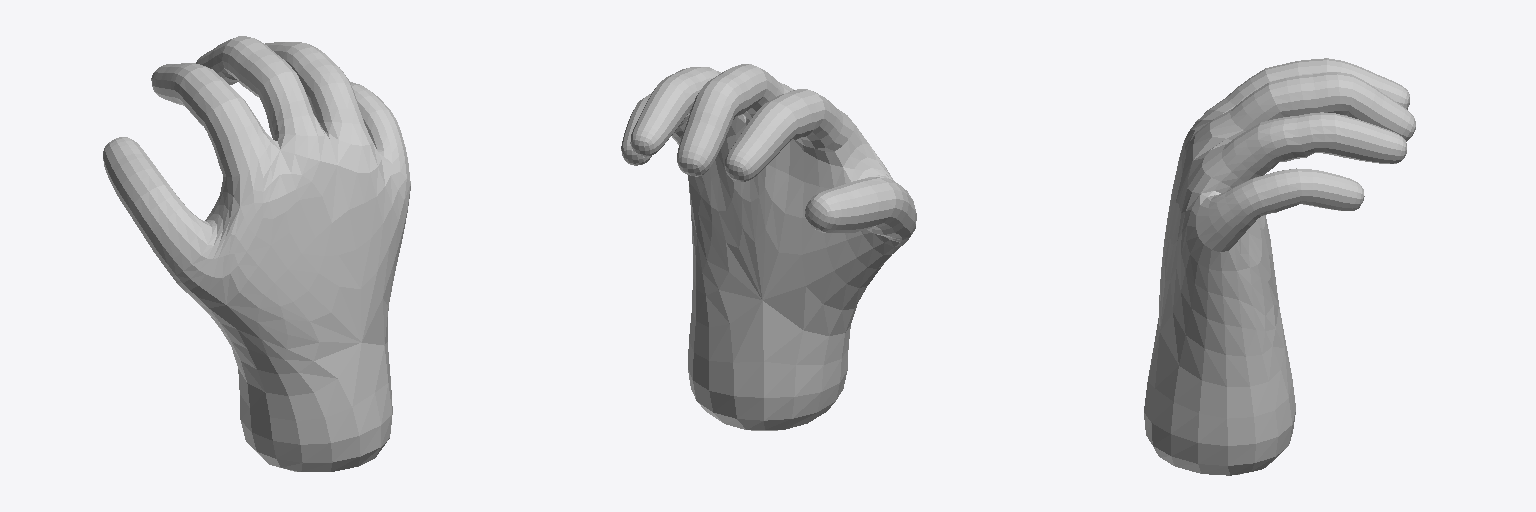
Rendered from hand7.obj.
3 renders of one model, left to right at view 1: azimuth 30°, elevation 25°; view 2: azimuth 150°, elevation 25°; view 3: azimuth 270°, elevation 25°, orthographic.
Parts seen in each view (by area): view 1: Cube; view 2: Cube; view 3: Cube.
Part boxes in pixels (x1,y1,x2,y2): Cube: (103, 36, 410, 471); Cube: (621, 64, 916, 430); Cube: (1144, 58, 1415, 475).
Size of the model in its own units: 3.38 by 4.89 by 3.15.